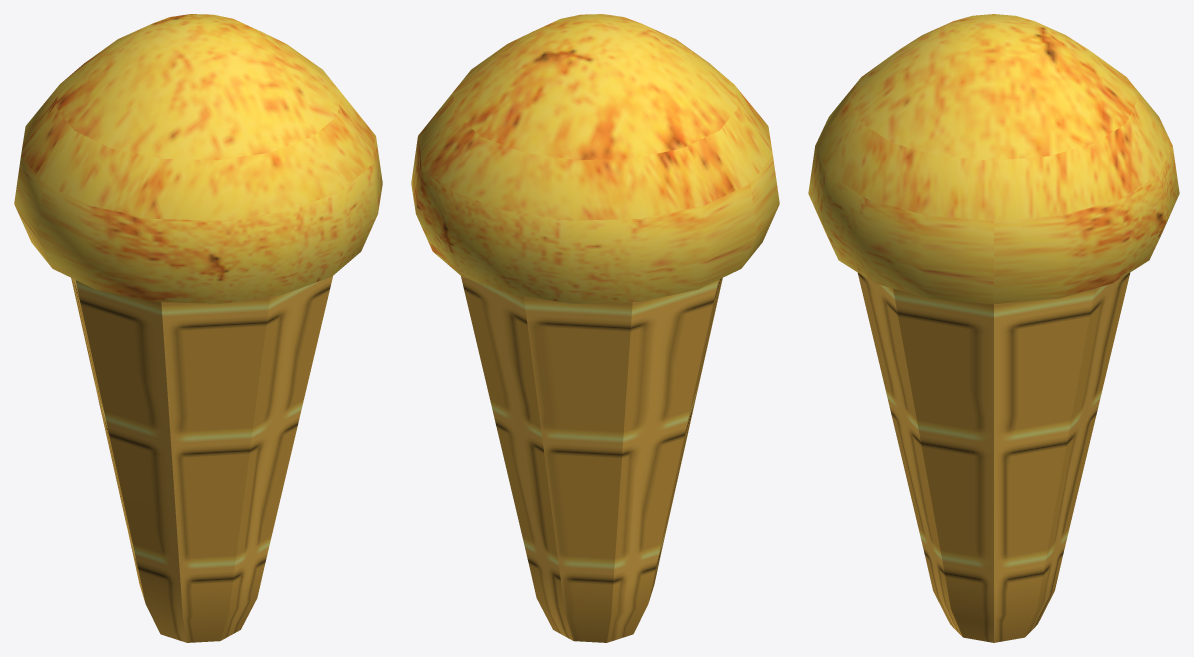
The model's file is IceCreamC.fbx.
3 views of the same model, side by side, from view 1: azimuth 30°, elevation 25°; view 2: azimuth 150°, elevation 25°; view 3: azimuth 270°, elevation 25° (orthographic).
Visible parts, largest first — view 1: IceCreamC, IceCreamCorn_C; view 2: IceCreamC, IceCreamCorn_C; view 3: IceCreamC, IceCreamCorn_C.
Part boxes in pixels (bbox=[...]): IceCreamC: bbox=[14, 14, 382, 303]; IceCreamCorn_C: bbox=[71, 276, 332, 642]; IceCreamC: bbox=[411, 14, 779, 303]; IceCreamCorn_C: bbox=[461, 276, 722, 642]; IceCreamC: bbox=[808, 14, 1179, 304]; IceCreamCorn_C: bbox=[857, 273, 1130, 642].
Size of the model in its own units: 106 by 192 by 106.
